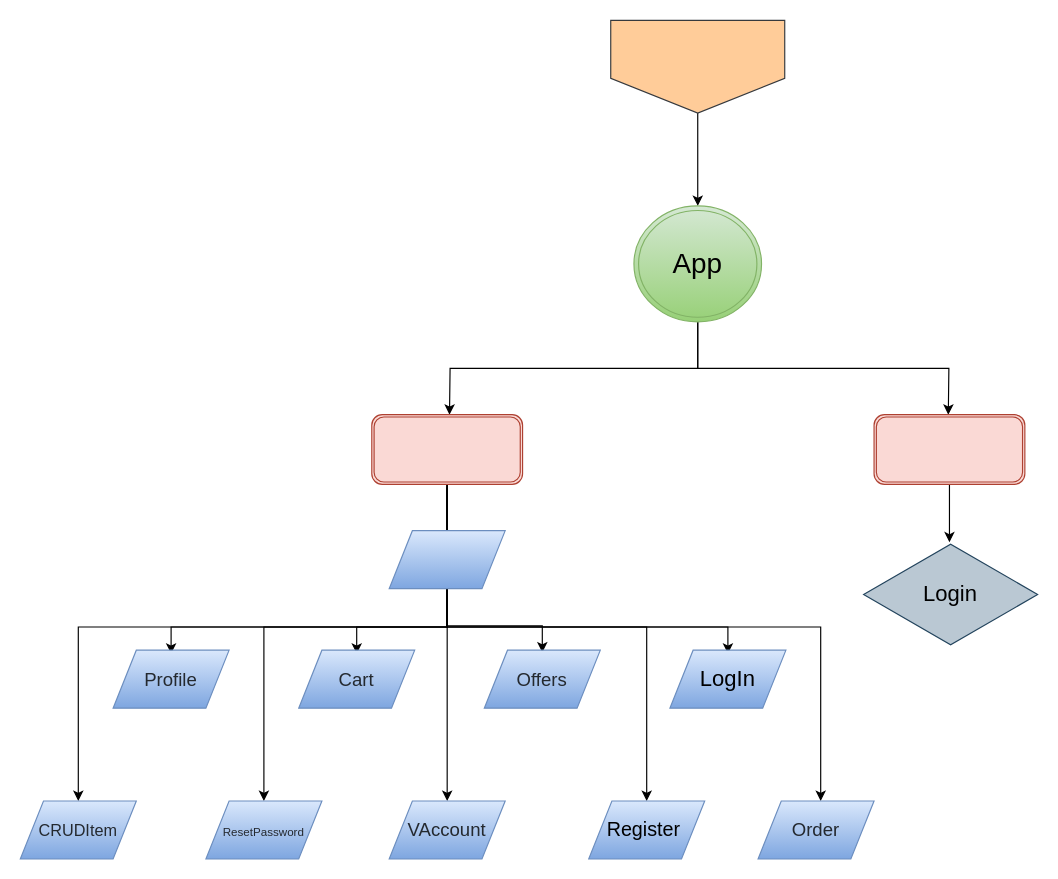
Some shapes in this 1058 by 879 pixel diagram are drawn without their labels. The box of each missing label's shape, as (x1, y1, x2, y2) in pixels:
Components: (371, 414, 523, 484)
Home: (388, 530, 505, 589)
Index: (610, 19, 785, 113)
Redux: (873, 414, 1025, 484)
